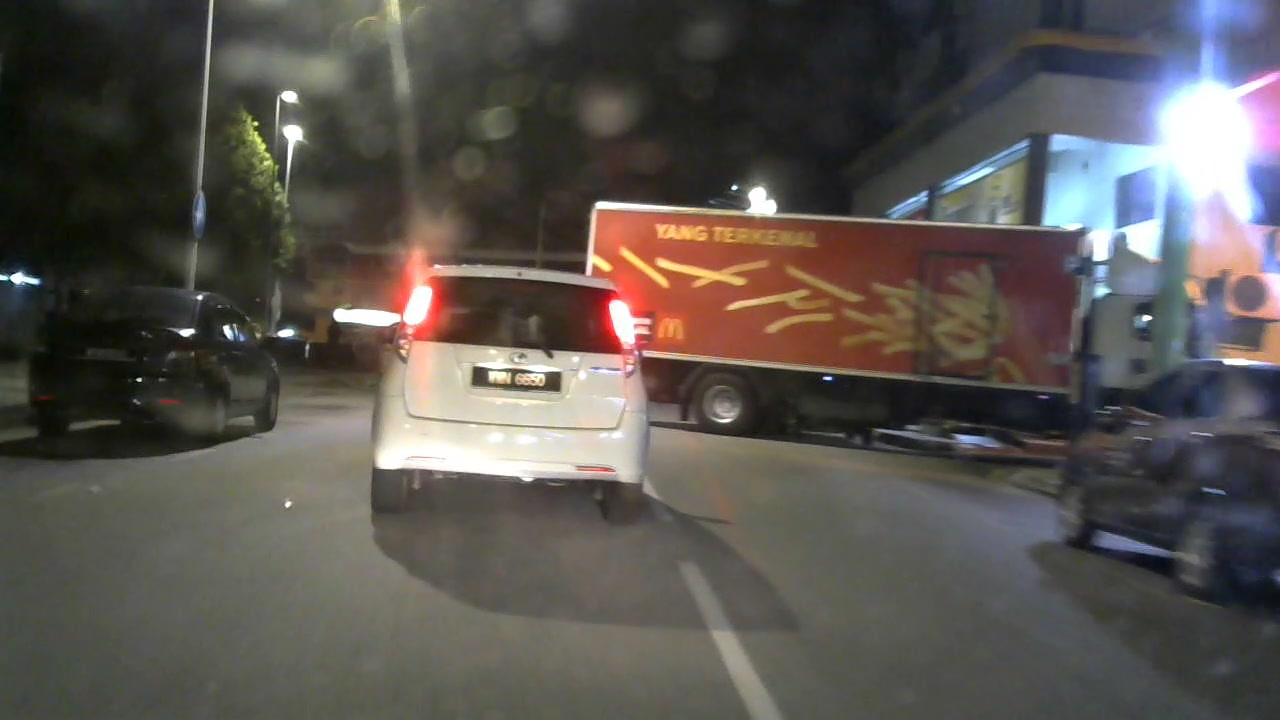Car: (343, 259, 657, 556), (1014, 361, 1276, 585), (28, 275, 288, 452)
